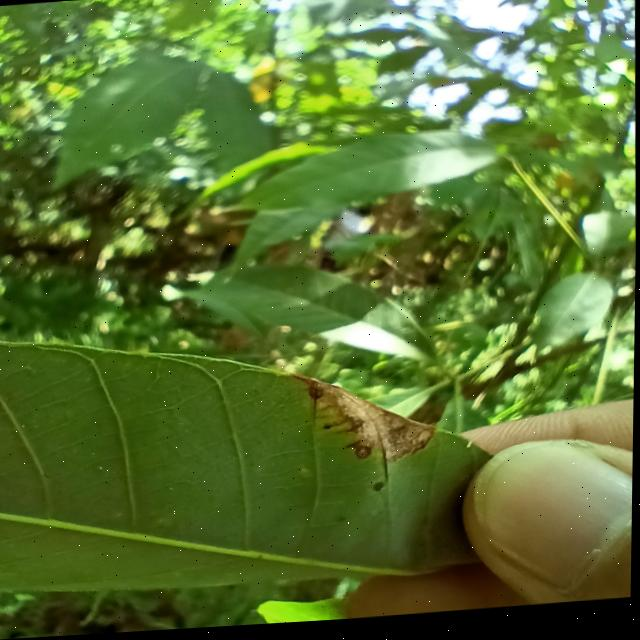Corynespora: (381, 451, 391, 487)
Leaf-Blight: (290, 366, 437, 473)
